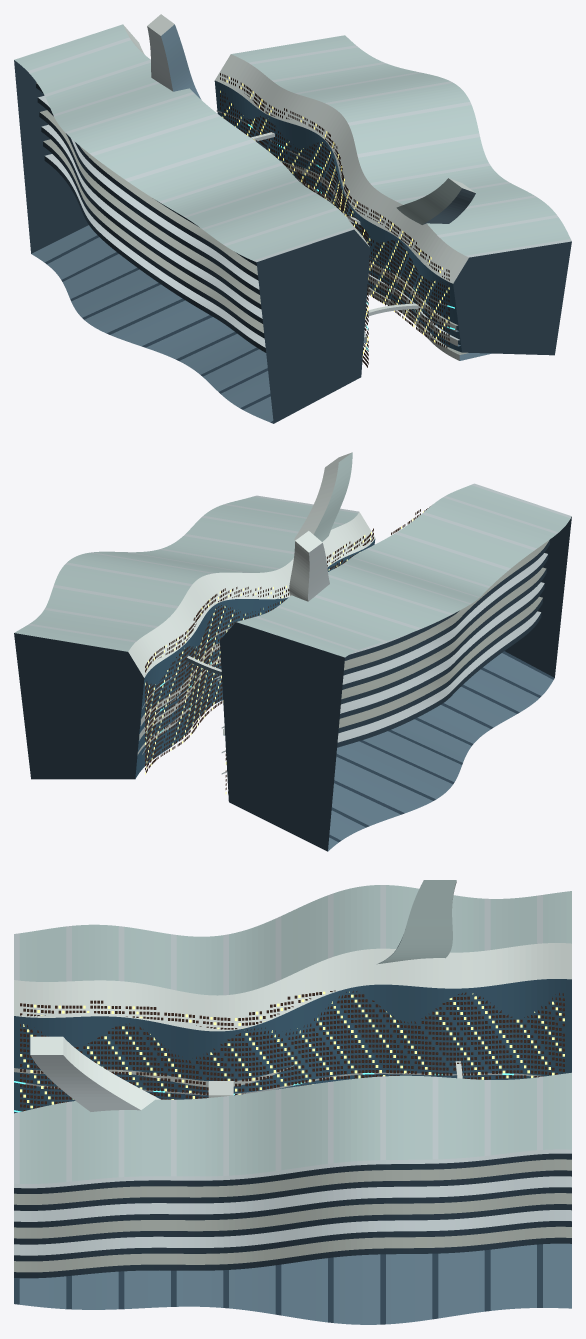
Rendered from G4E7BU_RIFTBOUND_MEGACITY_ART_ONLY.glb.
The picture shows the model from 3 angles, top to bottom: view 1: azimuth 30°, elevation 25°; view 2: azimuth 150°, elevation 25°; view 3: azimuth 270°, elevation 25°; orthographic projection. The views are drawn at different scales.
Visible parts, largest first — view 1: MONUMENTAL CONNECTED tectonic-inhabited mass WEST / ascendin, MONUMENTAL CONNECTED tectonic-inhabited mass EAST / infrastr, URBAN LONGITUDINAL LAYER WEST / ascending continuous inhabi. (×5), Genuine metropolitan curtain wall / thousands of occupied fa, URBAN LONGITUDINAL LAYER EAST / infrastructural residential. (×3), WEST uplift / 880m total height continuous cliff, URBAN LONGITUDINAL LAYER WEST / ascending continuous inhabi, EAST cantilever / irregular free-cut architectural ridge; view 2: MONUMENTAL CONNECTED tectonic-inhabited mass WEST / ascendin, MONUMENTAL CONNECTED tectonic-inhabited mass EAST / infrastr, URBAN LONGITUDINAL LAYER WEST / ascending continuous inhabi. (×5), Genuine metropolitan curtain wall / thousands of occupied fa, URBAN LONGITUDINAL LAYER WEST / ascending continuous inhabi, EAST cantilever / irregular free-cut architectural ridge, WEST uplift / 880m total height continuous cliff, URBAN LONGITUDINAL LAYER WEST / ascending continuous inhabit; view 3: MONUMENTAL CONNECTED tectonic-inhabited mass WEST / ascendin, MONUMENTAL CONNECTED tectonic-inhabited mass EAST / infrastr, URBAN LONGITUDINAL LAYER EAST / infrastructural residential. (×4), Genuine metropolitan curtain wall / thousands of occupied fa, URBAN LONGITUDINAL LAYER EAST / infrastructural residential, URBAN LONGITUDINAL LAYER EAST / infrastructural residential , EAST cantilever / irregular free-cut architectural ridge, WEST uplift / 880m total height continuous cliff, Canyon-side integrated commuter spine -1/280, URBAN LONGITUDINAL LAYER WEST / ascending continuous inhabi..
Part boxes in pixels (<box>): MONUMENTAL CONNECTED tectonic-inhabited mass WEST / ascendin: <box>14,24,370,423</box>; MONUMENTAL CONNECTED tectonic-inhabited mass EAST / infrastr: <box>214,35,571,355</box>; URBAN LONGITUDINAL LAYER WEST / ascending continuous inhabi. (×5): <box>37,95,366,352</box>; Genuine metropolitan curtain wall / thousands of occupied fa: <box>220,73,449,367</box>; URBAN LONGITUDINAL LAYER EAST / infrastructural residential. (×3): <box>279,160,491,360</box>; WEST uplift / 880m total height continuous cliff: <box>147,14,201,99</box>; URBAN LONGITUDINAL LAYER WEST / ascending continuous inhabi: <box>36,82,258,280</box>; EAST cantilever / irregular free-cut architectural ridge: <box>396,178,475,224</box>; MONUMENTAL CONNECTED tectonic-inhabited mass WEST / ascendin: <box>220,483,571,851</box>; MONUMENTAL CONNECTED tectonic-inhabited mass EAST / infrastr: <box>14,495,375,779</box>; URBAN LONGITUDINAL LAYER WEST / ascending continuous inhabi. (×5): <box>223,553,548,747</box>; Genuine metropolitan curtain wall / thousands of occupied fa: <box>145,506,430,794</box>; URBAN LONGITUDINAL LAYER WEST / ascending continuous inhabi: <box>343,539,549,675</box>; EAST cantilever / irregular free-cut architectural ridge: <box>294,452,352,541</box>; WEST uplift / 880m total height continuous cliff: <box>289,531,329,601</box>; URBAN LONGITUDINAL LAYER WEST / ascending continuous inhabit: <box>344,610,459,660</box>; MONUMENTAL CONNECTED tectonic-inhabited mass WEST / ascendin: <box>14,885,571,1113</box>; MONUMENTAL CONNECTED tectonic-inhabited mass EAST / infrastr: <box>14,1072,571,1324</box>; URBAN LONGITUDINAL LAYER EAST / infrastructural residential. (×4): <box>14,1176,571,1278</box>; Genuine metropolitan curtain wall / thousands of occupied fa: <box>20,990,564,1111</box>; URBAN LONGITUDINAL LAYER EAST / infrastructural residential: <box>14,1159,571,1210</box>; URBAN LONGITUDINAL LAYER EAST / infrastructural residential : <box>14,1149,571,1193</box>; EAST cantilever / irregular free-cut architectural ridge: <box>30,1036,160,1111</box>; WEST uplift / 880m total height continuous cliff: <box>377,880,456,964</box>; Canyon-side integrated commuter spine -1/280: <box>14,1072,543,1095</box>; URBAN LONGITUDINAL LAYER WEST / ascending continuous inhabi.: <box>14,1065,293,1087</box>.
Bounding box in the file's own units: 1810 × 1141 × 1900.
11 materials, 1 textured.
